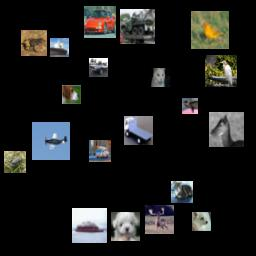airplane: (32, 122, 70, 160)
automobile: (84, 6, 116, 38), (89, 58, 108, 77)
bird: (191, 11, 229, 49), (205, 55, 237, 87)
cat: (171, 181, 193, 203), (151, 68, 170, 87), (182, 98, 198, 114)
deer: (209, 112, 244, 147), (145, 205, 174, 234)
dog: (111, 212, 140, 241), (62, 85, 81, 104), (192, 212, 211, 231)
frog: (21, 30, 47, 56), (4, 151, 26, 173)
ship: (72, 208, 107, 243), (50, 38, 69, 57)
truck: (120, 9, 155, 44), (124, 116, 153, 145), (89, 140, 111, 162)
